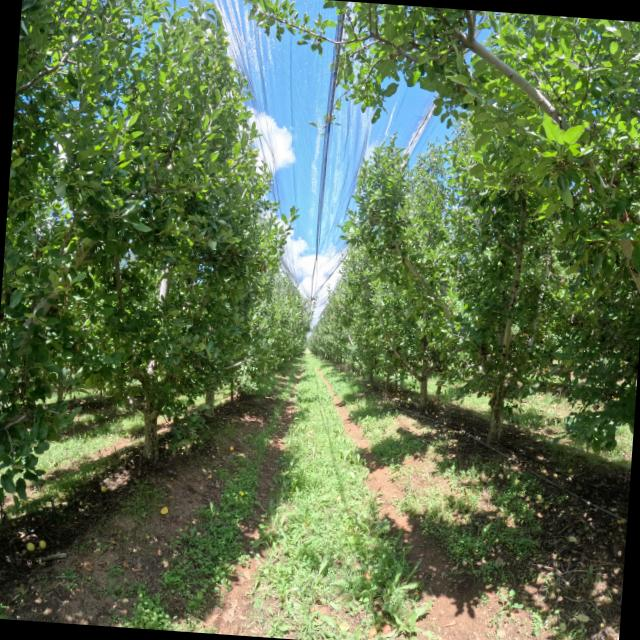-FireBlight-: (256, 262, 268, 272)
